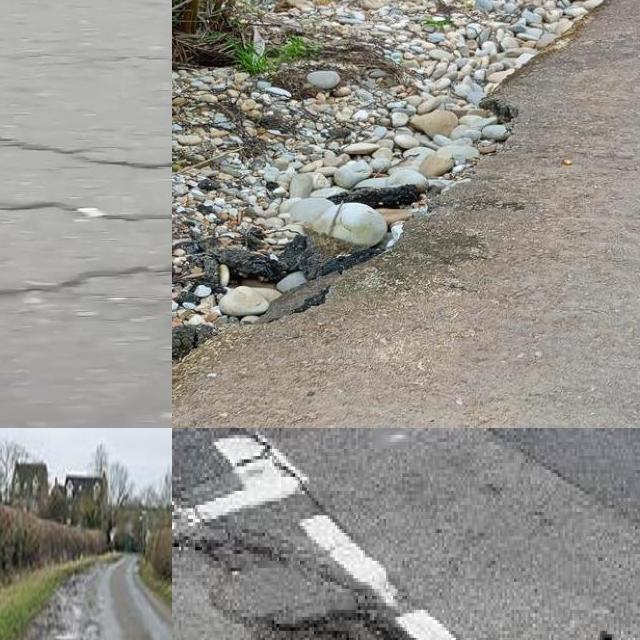Melintang: (0, 254, 172, 308), (0, 127, 172, 180), (0, 190, 172, 232)
Pinggir: (172, 36, 546, 428)
